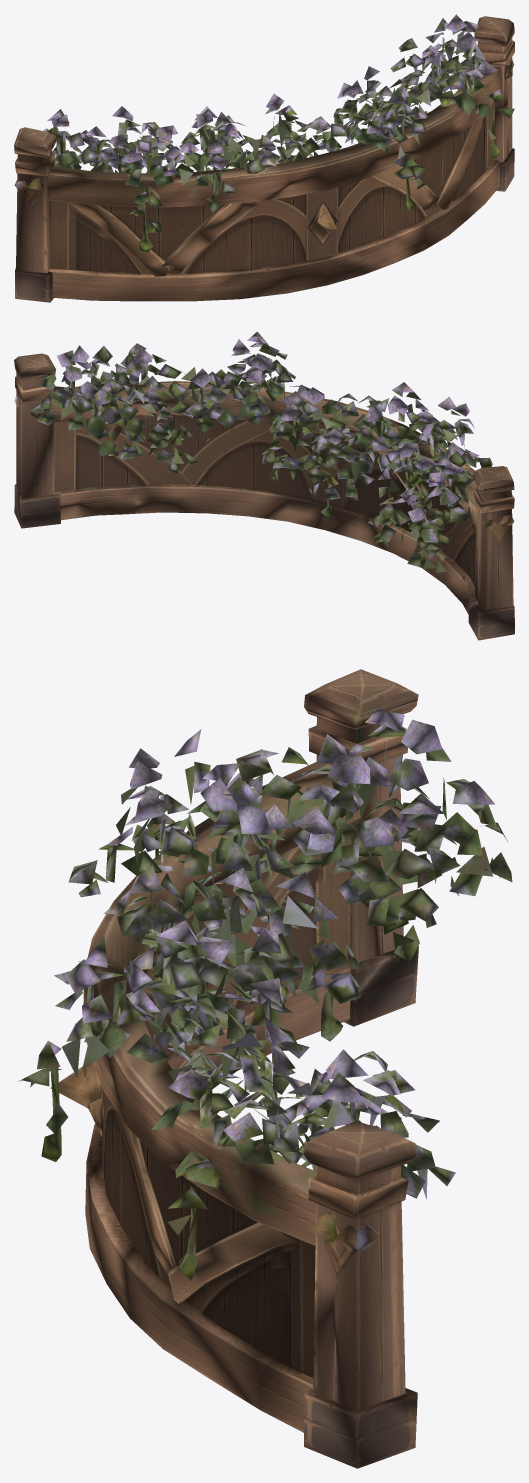
The model's file is flower-planter.glb.
3 renders of one model, top to bottom at view 1: azimuth 30°, elevation 25°; view 2: azimuth 150°, elevation 25°; view 3: azimuth 270°, elevation 25°, orthographic. The views are drawn at different scales.
Parts seen in each view (by area): view 1: Mesh_0; view 2: Mesh_0; view 3: Mesh_0.
Boxes of the visible parts, x1,y1,x2,y2 form: Mesh_0: (14, 14, 514, 302); Mesh_0: (14, 331, 514, 640); Mesh_0: (18, 669, 512, 1468).
Size of the model in its own units: 1.74 by 0.6 by 0.7479.
1 material, 1 textured.
